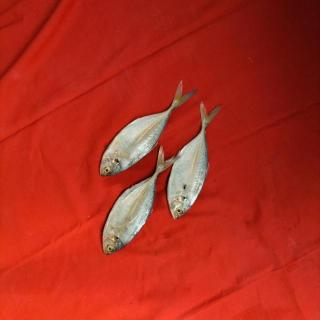Ikan: (83, 80, 237, 260)
